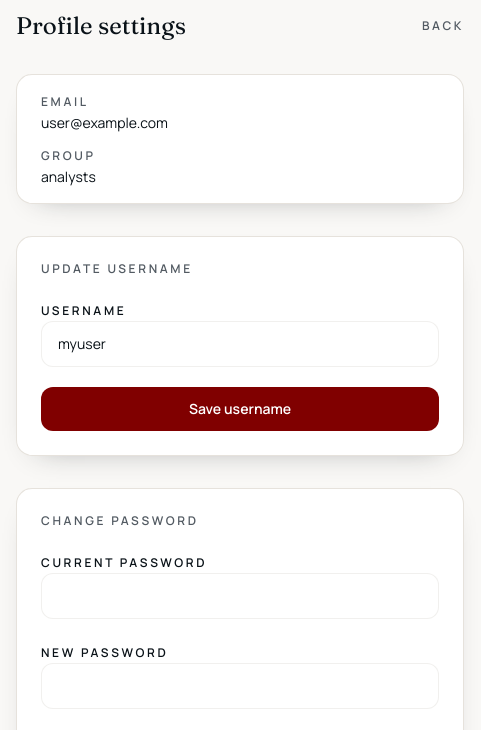
Test case: ProfilePage – update username › shows success message after username update
The width and height of the screenshot is (481, 730).
Check: the field labelled "Username" is shown, box [41, 321, 439, 367]
Click the button "Save username" at (240, 409), box [41, 387, 439, 431]
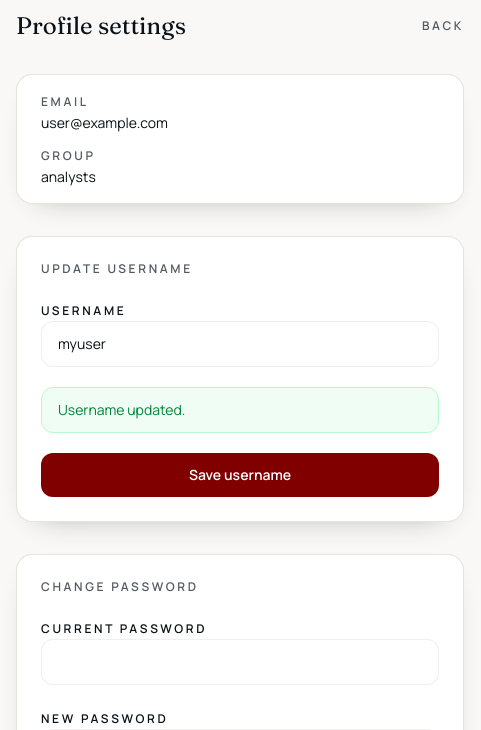
Check: the text "Username updated." is shown, box [41, 387, 439, 433]
